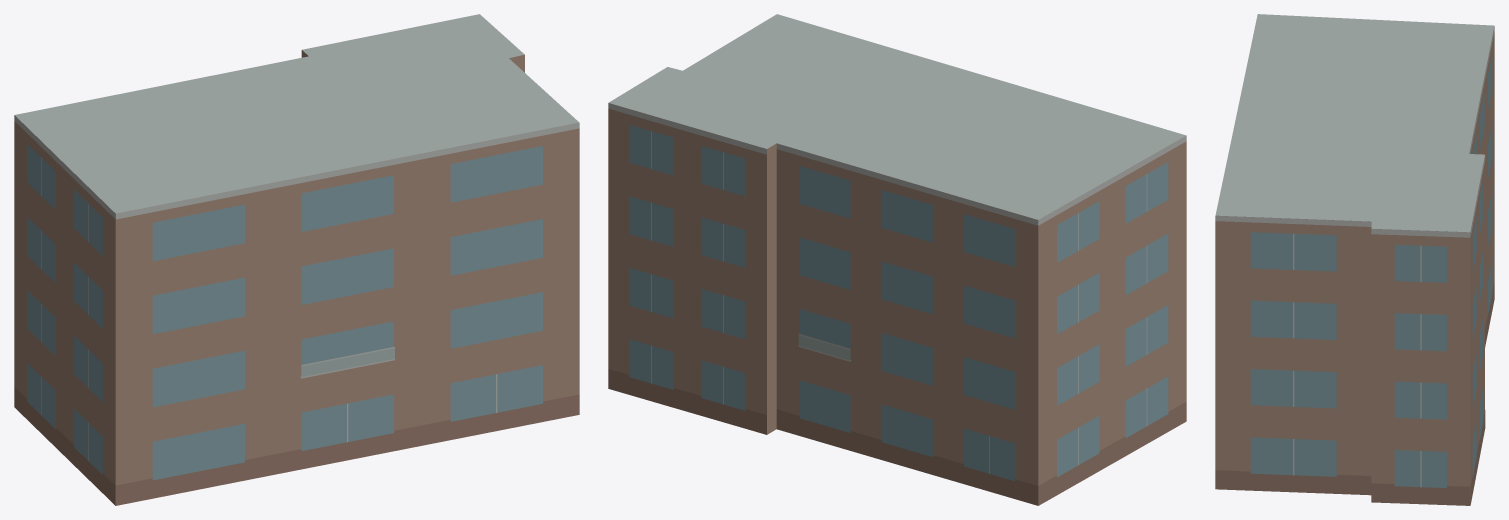
Rendered from survey-upis-32659535.glb.
The picture shows the model from 3 angles, left to right: view 1: azimuth 30°, elevation 25°; view 2: azimuth 150°, elevation 25°; view 3: azimuth 270°, elevation 25°; orthographic projection. The views are drawn at different scales.
Parts seen in each view (by area): view 1: survey-upis-32659535.tmp; view 2: survey-upis-32659535.tmp; view 3: survey-upis-32659535.tmp.
Part boxes in pixels (x1,y1,x2,y2): survey-upis-32659535.tmp: (14,14,579,505); survey-upis-32659535.tmp: (608,14,1186,505); survey-upis-32659535.tmp: (1215,14,1494,505).
Bounding box in the file's own units: 20.88 × 12.2 × 11.29.
